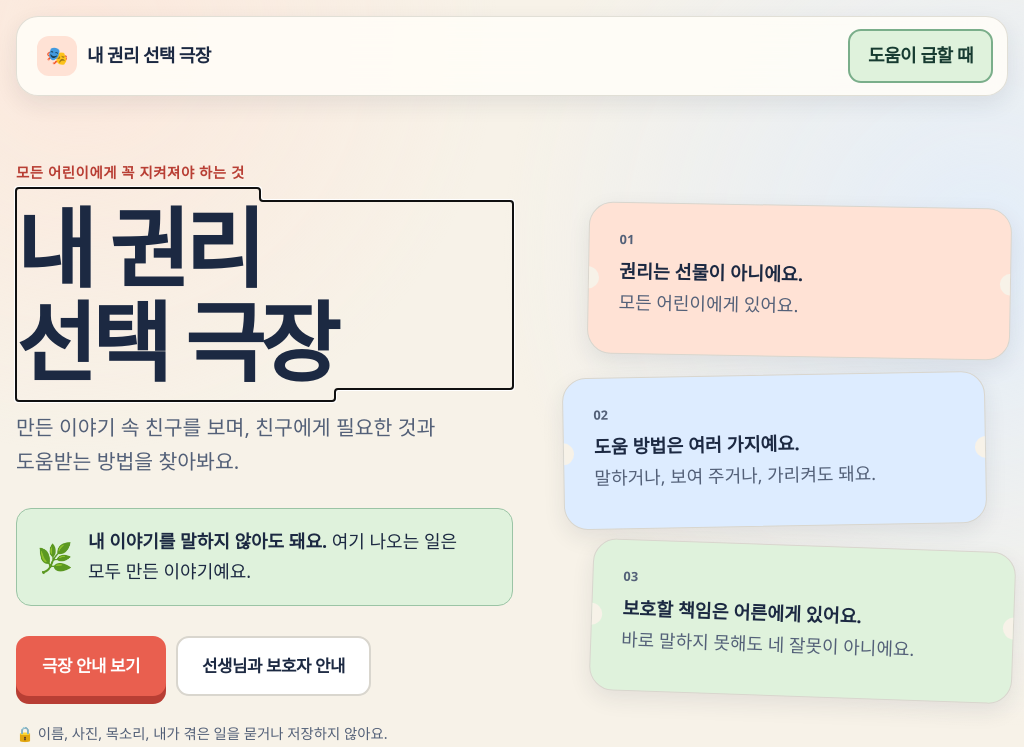
내 권리 선택 극장 흐름 › 시작 안내에서 실제 경험을 묻지 않고 활동을 시작한다
Expected: the heading "내 권리 선택 극장" is shown, [16, 188, 335, 401]
Expected: the text "내 이야기를 말하지 않아도 돼요." is shown, [88, 530, 327, 554]
What coordinates should you click on to do the following:
click the button "극장 안내 보기"
I would click on:
 (91, 666)
Its box is [16, 636, 166, 696].
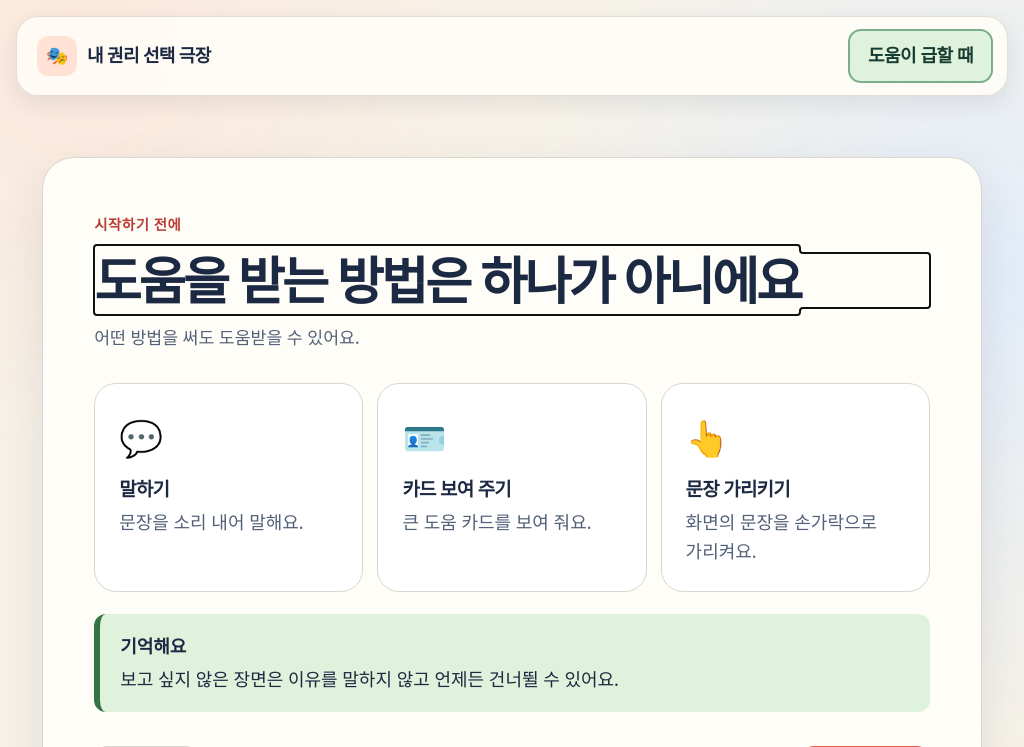
Now the heading "도움을 받는 방법은 하나가 아니에요" is shown, box [94, 245, 800, 315]
